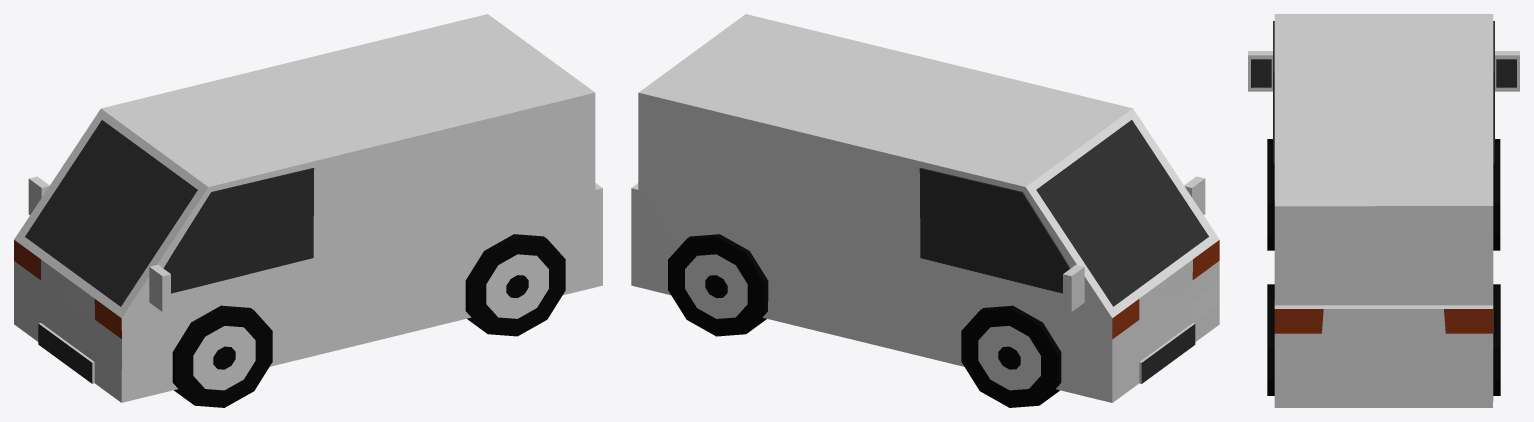
Rendered from mobil 1.fbx.
The picture shows the model from 3 angles, left to right: view 1: azimuth 30°, elevation 25°; view 2: azimuth 150°, elevation 25°; view 3: azimuth 270°, elevation 25°; orthographic projection.
Parts seen in each view (by area): view 1: Cube.010; view 2: Cube.010; view 3: Cube.010.
Boxes of the visible parts, box(x1,y1,x2,y2) form: Cube.010: box(14, 14, 602, 407); Cube.010: box(631, 14, 1219, 407); Cube.010: box(1248, 14, 1519, 407).
Size of the model in its own units: 460 by 201 by 220.
